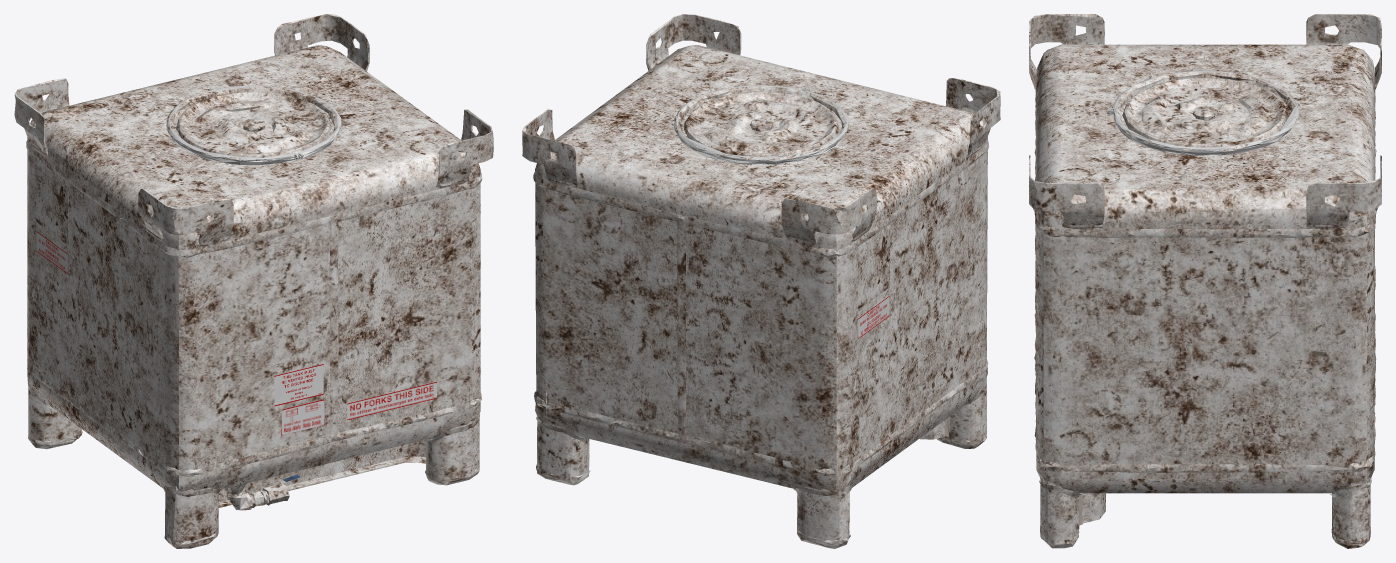
The model's file is shelter_a_coolant_tank.glb.
3 renders of one model, left to right at view 1: azimuth 30°, elevation 25°; view 2: azimuth 150°, elevation 25°; view 3: azimuth 270°, elevation 25°, orthographic. The views are drawn at different scales.
Parts seen in each view (by area): view 1: shelter_a_coolant_tank; view 2: shelter_a_coolant_tank; view 3: shelter_a_coolant_tank.
Boxes of the visible parts, box(x1,y1,x2,y2) form: shelter_a_coolant_tank: box(14, 14, 493, 548); shelter_a_coolant_tank: box(522, 14, 1000, 548); shelter_a_coolant_tank: box(1029, 14, 1381, 548).
Size of the model in its own units: 1.27 by 1.3 by 1.11.
Materials: 4 (4 with a texture image).
